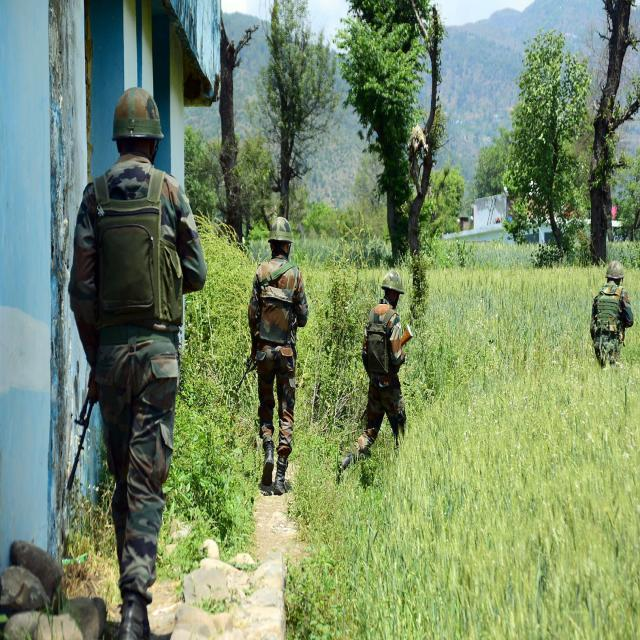Forest: (0, 2, 640, 640)
Militant: (66, 64, 198, 640), (250, 204, 318, 509), (348, 242, 429, 464), (575, 247, 640, 385)
